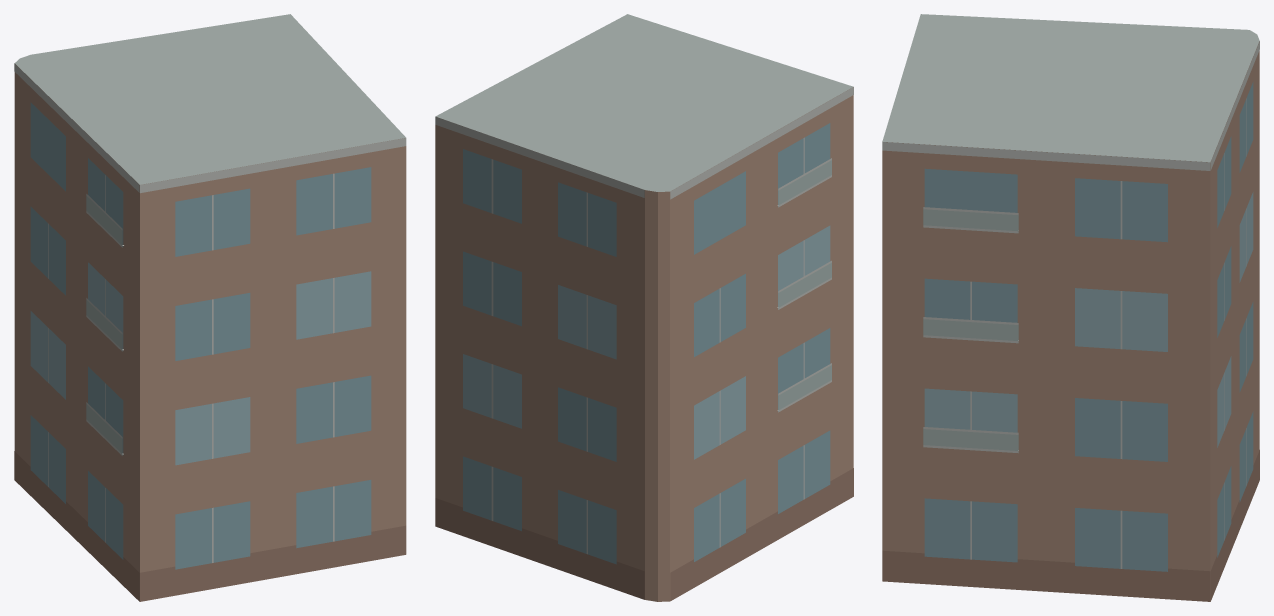
Rendered from survey-upis-32658186.glb.
3 views of the same model, side by side, from view 1: azimuth 30°, elevation 25°; view 2: azimuth 150°, elevation 25°; view 3: azimuth 270°, elevation 25° (orthographic). The views are drawn at different scales.
Parts seen in each view (by area): view 1: survey-upis-32658186.tmp; view 2: survey-upis-32658186.tmp; view 3: survey-upis-32658186.tmp.
Boxes of the visible parts, x1,y1,x2,y2 form: survey-upis-32658186.tmp: (14,14,406,601); survey-upis-32658186.tmp: (435,14,853,601); survey-upis-32658186.tmp: (882,14,1259,601).
Size of the model in its own units: 8.83 by 12.2 by 9.51.
